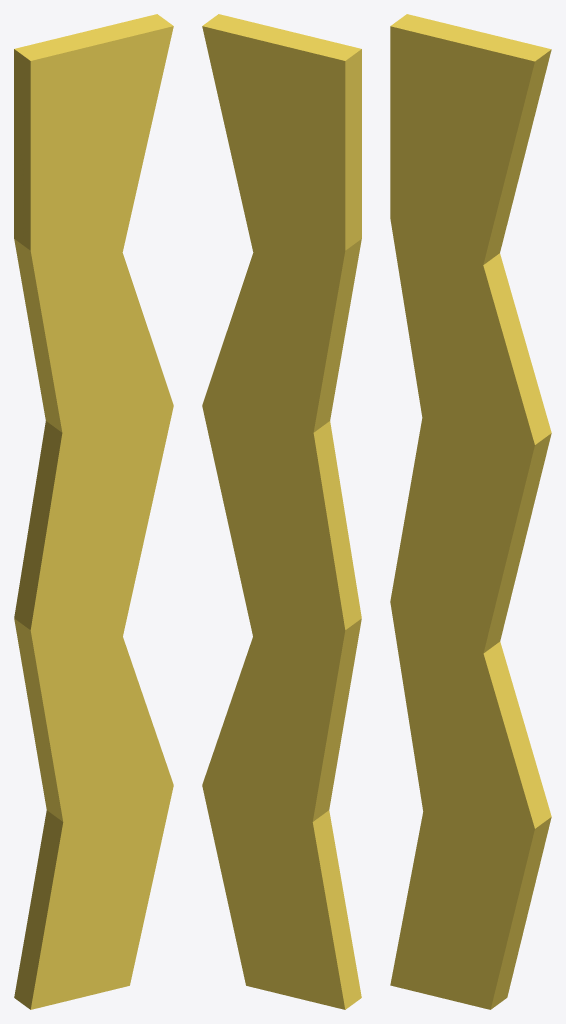
The model's file is Attack.obj.
3 renders of one model, left to right at view 1: azimuth 30°, elevation 25°; view 2: azimuth 150°, elevation 25°; view 3: azimuth 330°, elevation 25°, orthographic.
Visible parts, largest first — view 1: Cube; view 2: Cube; view 3: Cube.
Part boxes in pixels (x1,y1,x2,y2): Cube: (14, 14, 173, 1009); Cube: (202, 14, 361, 1009); Cube: (390, 14, 551, 1009).
Size of the model in its own units: 6 by 38 by 1.2.
1 material, 1 textured.
